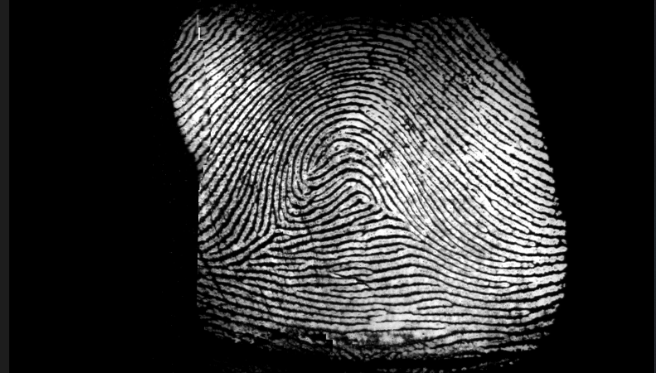nucelo: (294, 152, 334, 187)
verticilo: (252, 210, 299, 247), (368, 199, 401, 222)
